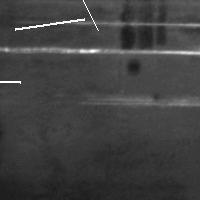scratches: (2, 42, 199, 61), (24, 16, 200, 34), (118, 3, 174, 56), (84, 88, 196, 111), (10, 14, 89, 34), (72, 0, 103, 35), (0, 76, 25, 87)
